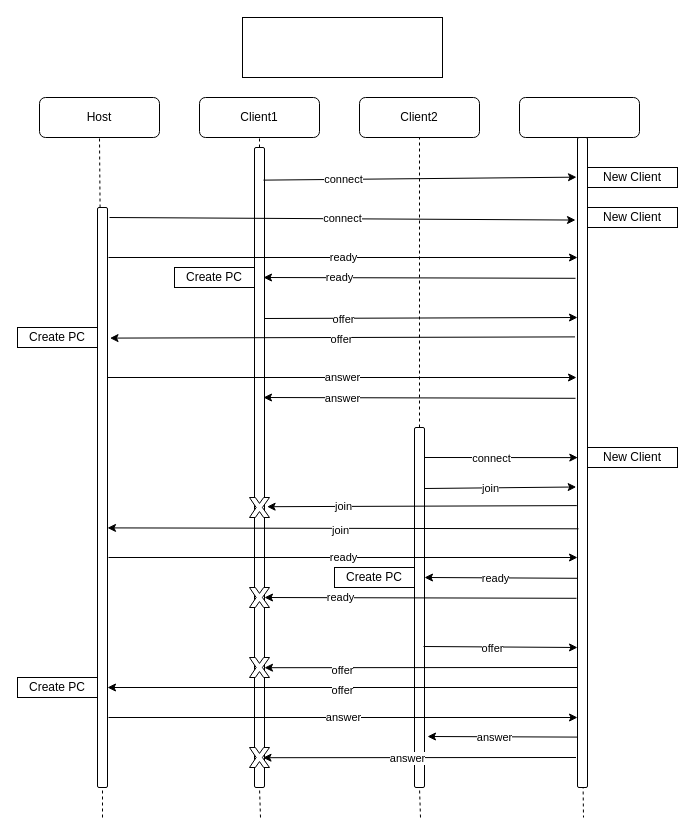
Some shapes in this 695 by 836 pixel diagram are drawn without their labels. The box of each missing label's shape, as (x1, y1, x2, y2) in pixels:
Signaling: (518, 96, 640, 138)
WebRTC Sequence Example: (242, 16, 442, 78)
